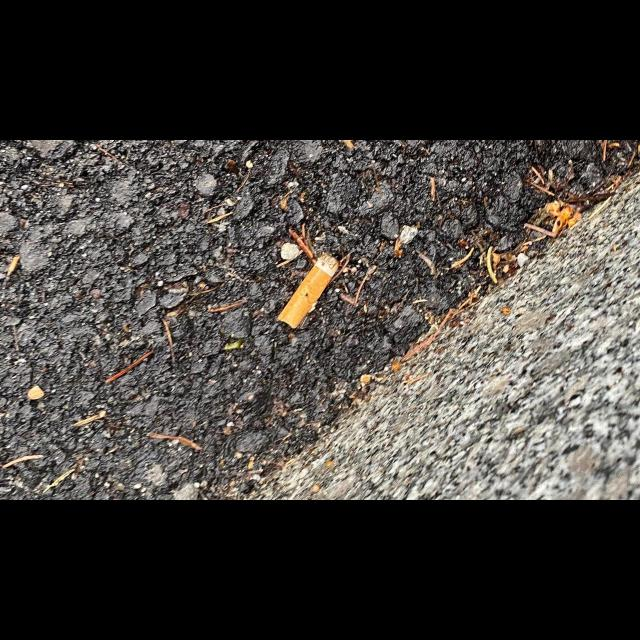cigarette: (277, 252, 340, 329)
